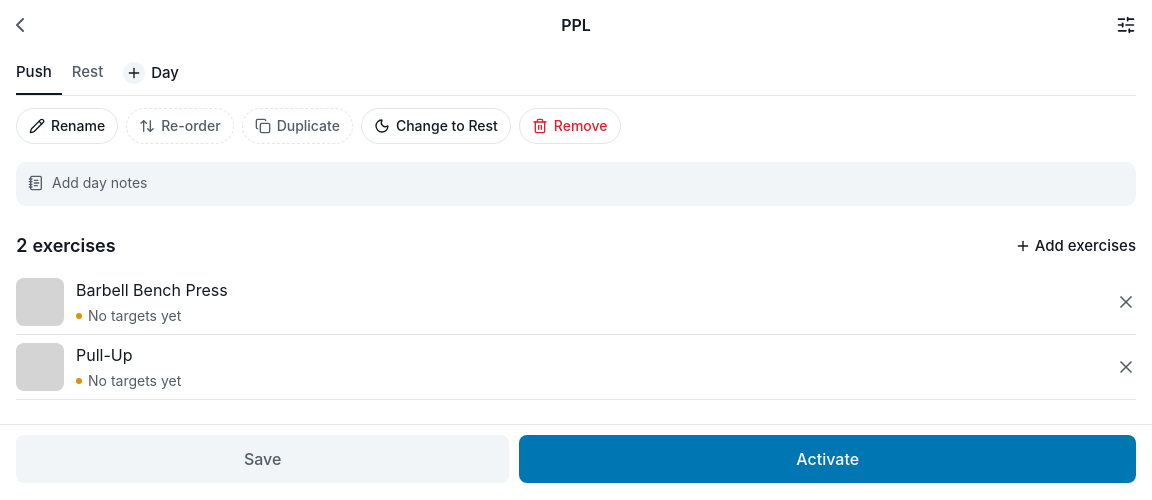
ProgramEditorPage - day actions and exercises › removing an exercise updates the count and shows the no-targets hint
This screenshot has width=1152, height=500.
Expected: the element showing "Push Rest" is shown, x1=16 y1=51 x2=113 y2=95
Expected: the text "No targets yet" is shown 2 times, x1=76 y1=306 x2=181 y2=326; x1=76 y1=371 x2=181 y2=391
Click the button named "Remove Pull-Up" at (1126, 367), box x1=1104 y1=345 x2=1148 y2=389
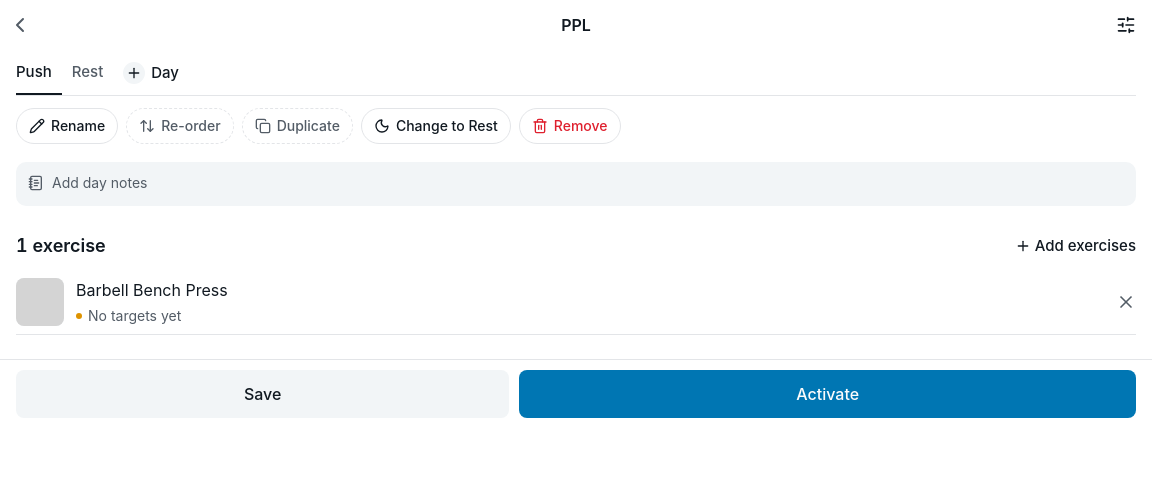
Now the heading "1 exercise" is shown, box x1=16 y1=232 x2=106 y2=260
